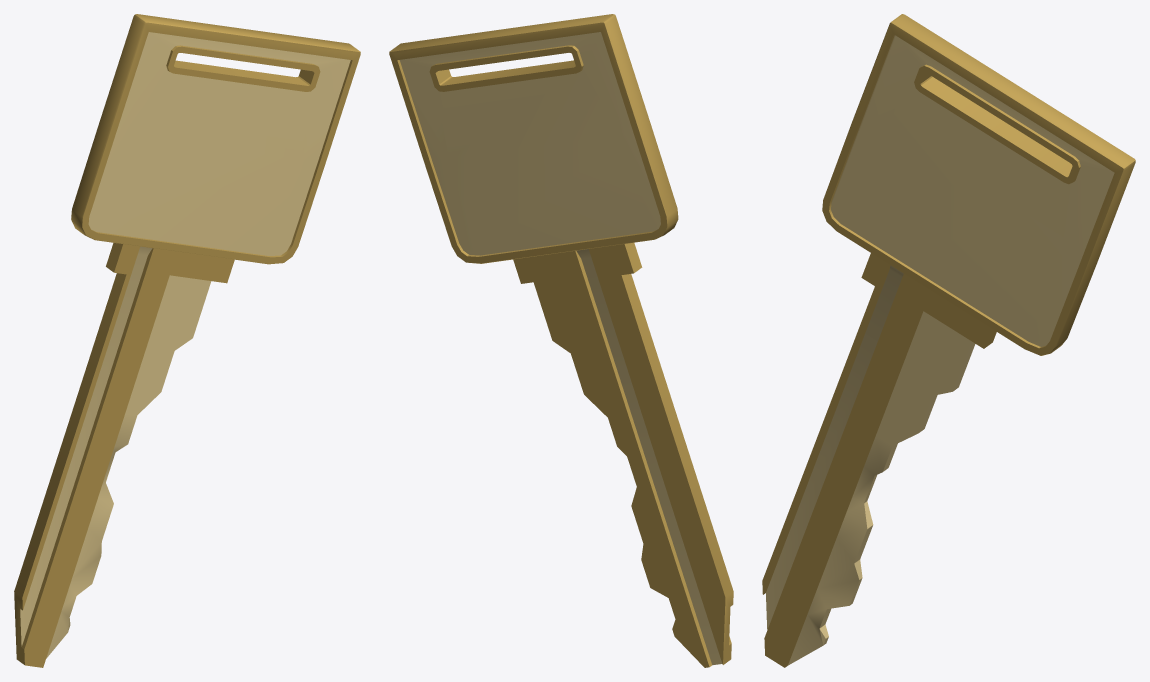
The model's file is Key_4.fbx.
3 views of the same model, side by side, from view 1: azimuth 30°, elevation 25°; view 2: azimuth 150°, elevation 25°; view 3: azimuth 330°, elevation 25° (orthographic). The views are drawn at different scales.
Parts seen in each view (by area): view 1: Key4.001; view 2: Key4.001; view 3: Key4.001.
Part boxes in pixels (x1,y1,x2,y2): Key4.001: (14, 14, 360, 667); Key4.001: (389, 14, 733, 667); Key4.001: (762, 14, 1135, 667).
Bounding box in the file's own units: 0.5489 × 0.9702 × 0.0337.
